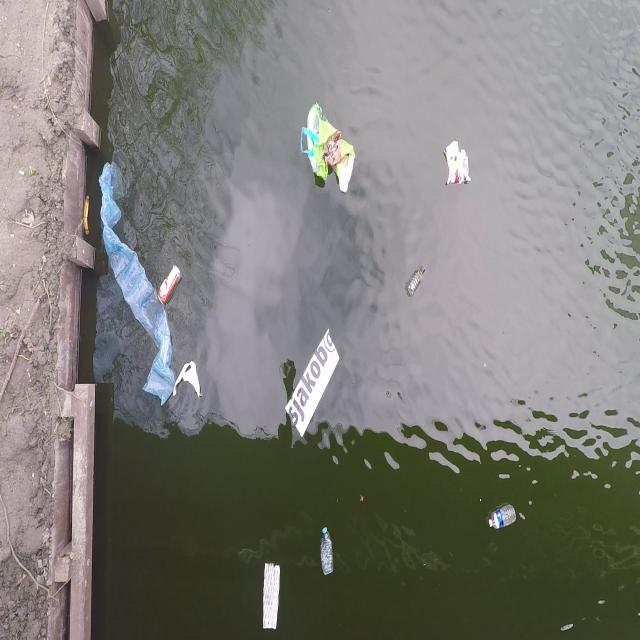Autre plastique: (283, 323, 343, 446), (262, 561, 281, 634)
Bouteille plastique: (488, 503, 522, 533), (318, 528, 336, 582), (408, 265, 428, 300)
Non plastique: (158, 264, 181, 303)
Sac plastique: (97, 156, 178, 407), (299, 97, 358, 201)
